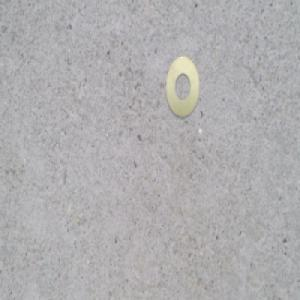Washer: (165, 55, 200, 118)
